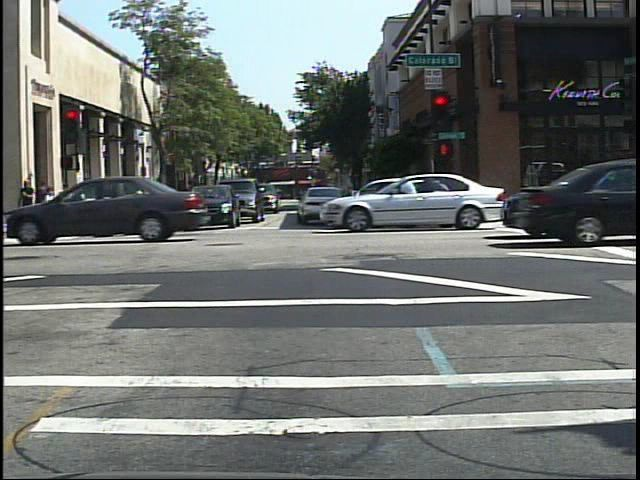person: (129, 181, 148, 218), (137, 181, 152, 219)
